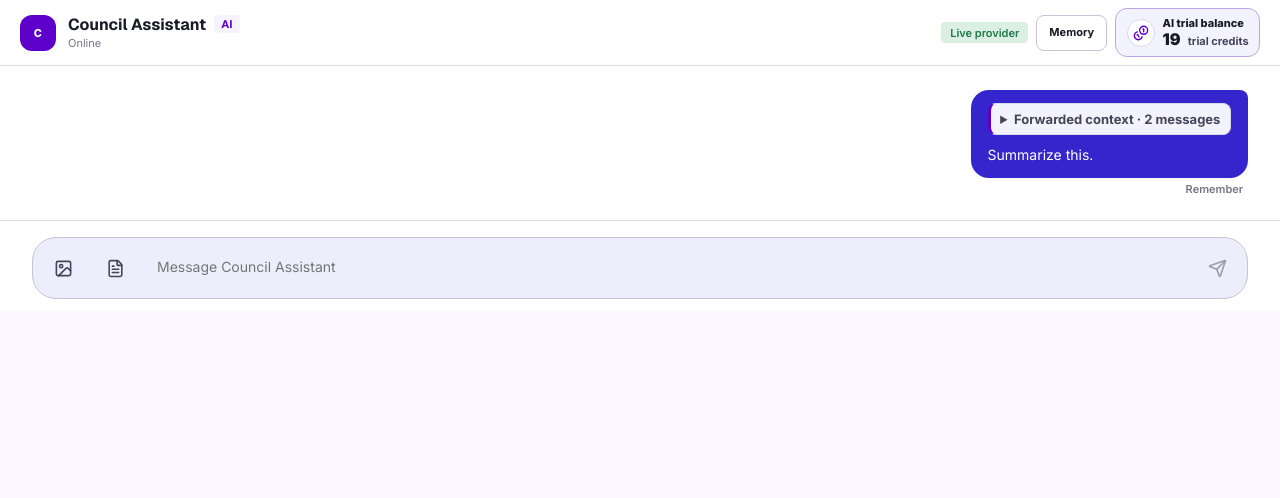
Scenario: AiConversationPage › renders a persistent plain-text forwarded context card
This screenshot has width=1280, height=498.
Click the heading "Forwarded context · 2 messages": (1110, 119) [1000,111,1220,127]
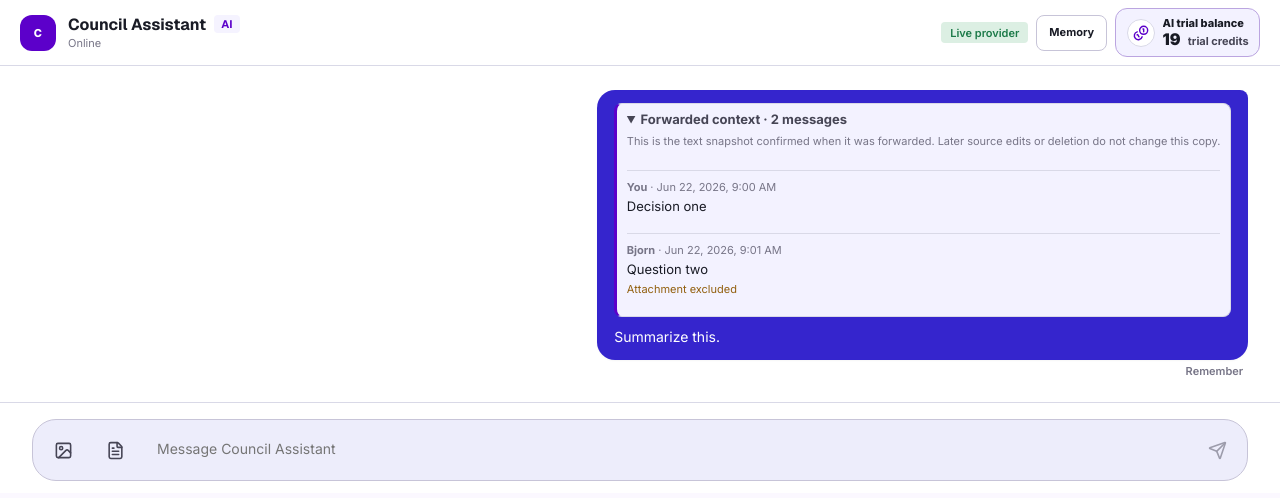
Check: the text "Decision one" is shown, box [627,198,706,214]
Check: the text "Question two" is shown, box [627,261,708,277]
Check: the text "Attachment excluded" is shown, box [627,282,737,296]
